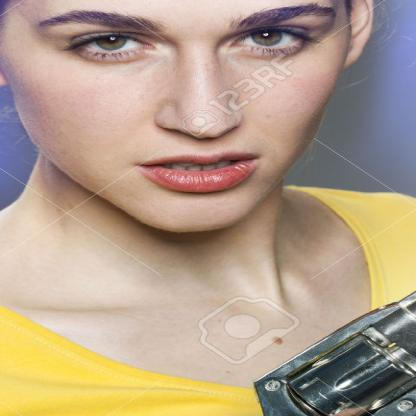gun: (204, 269, 415, 415)
